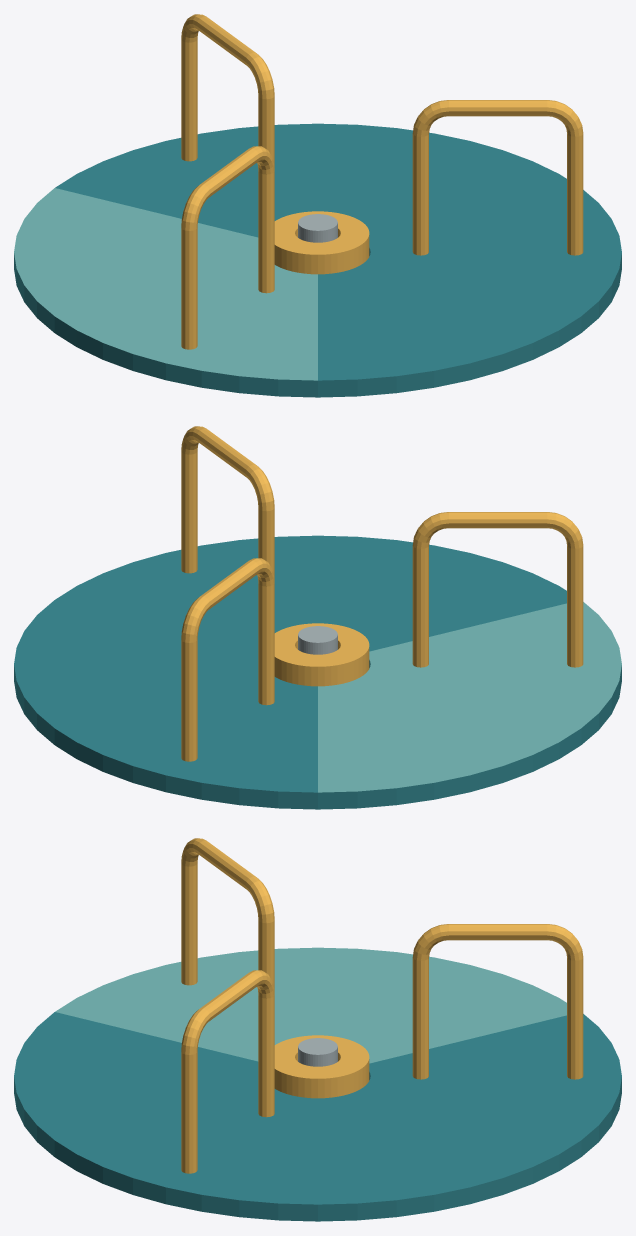
3 renders of one model, top to bottom at view 1: azimuth 30°, elevation 25°; view 2: azimuth 150°, elevation 25°; view 3: azimuth 270°, elevation 25°, orthographic.
Parts seen in each view (by area): view 1: Platform_ThickThreeZoneDeck, Rail_ContinuousRoundedU_3, Rail_ContinuousRoundedU_2, Rail_ContinuousRoundedU_1, Hub_ThroughBoredFlangedSleeve, Axis_SolidVerticalShaft; view 2: Platform_ThickThreeZoneDeck, Rail_ContinuousRoundedU_2, Rail_ContinuousRoundedU_1, Rail_ContinuousRoundedU_3, Hub_ThroughBoredFlangedSleeve, Axis_SolidVerticalShaft; view 3: Platform_ThickThreeZoneDeck, Rail_ContinuousRoundedU_1, Rail_ContinuousRoundedU_3, Rail_ContinuousRoundedU_2, Hub_ThroughBoredFlangedSleeve, Axis_SolidVerticalShaft.
Part boxes in pixels (bbox=[...]): Platform_ThickThreeZoneDeck: bbox=[14, 123, 621, 397]; Rail_ContinuousRoundedU_3: bbox=[412, 100, 583, 255]; Rail_ContinuousRoundedU_2: bbox=[181, 146, 274, 349]; Rail_ContinuousRoundedU_1: bbox=[181, 14, 274, 167]; Hub_ThroughBoredFlangedSleeve: bbox=[274, 211, 369, 274]; Axis_SolidVerticalShaft: bbox=[298, 214, 337, 242]; Platform_ThickThreeZoneDeck: bbox=[14, 535, 621, 809]; Rail_ContinuousRoundedU_2: bbox=[412, 512, 583, 667]; Rail_ContinuousRoundedU_1: bbox=[181, 558, 274, 761]; Rail_ContinuousRoundedU_3: bbox=[181, 426, 274, 579]; Hub_ThroughBoredFlangedSleeve: bbox=[274, 623, 369, 686]; Axis_SolidVerticalShaft: bbox=[298, 626, 337, 654]; Platform_ThickThreeZoneDeck: bbox=[14, 947, 621, 1221]; Rail_ContinuousRoundedU_1: bbox=[412, 924, 583, 1079]; Rail_ContinuousRoundedU_3: bbox=[181, 970, 274, 1173]; Rail_ContinuousRoundedU_2: bbox=[181, 838, 274, 991]; Hub_ThroughBoredFlangedSleeve: bbox=[274, 1035, 369, 1098]; Axis_SolidVerticalShaft: bbox=[298, 1038, 337, 1066].
Size of the model in its own units: 2.6 by 1.03 by 2.6.
